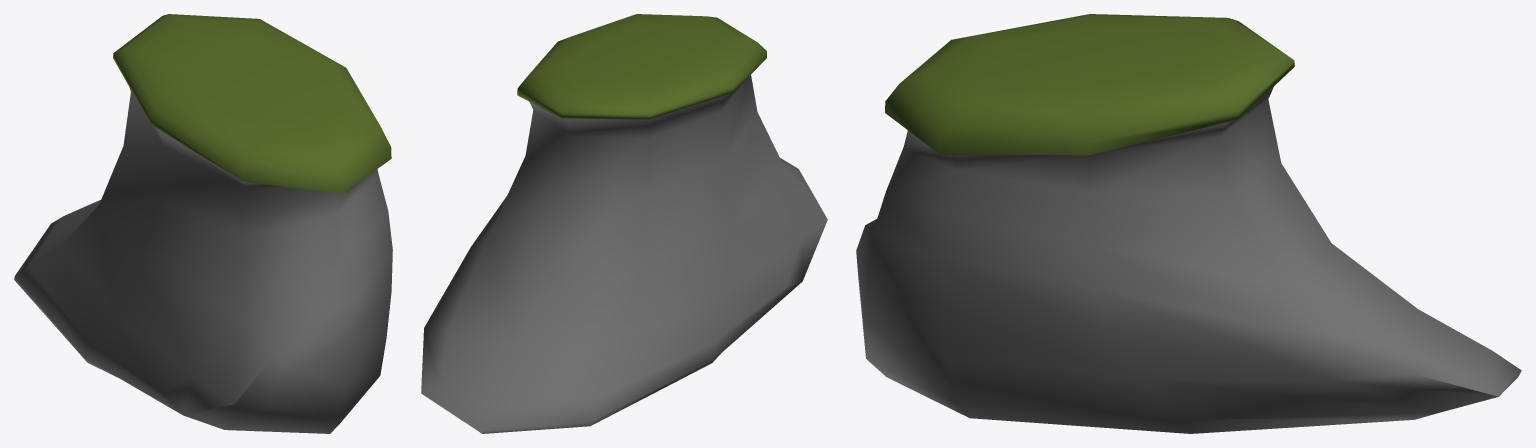
File: Roche_Grand.fbx
3 renders of one model, left to right at view 1: azimuth 30°, elevation 25°; view 2: azimuth 150°, elevation 25°; view 3: azimuth 270°, elevation 25°, orthographic. The views are drawn at different scales.
Parts seen in each view (by area): view 1: Cube.001; view 2: Cube.001; view 3: Cube.001.
Boxes of the visible parts, x1,y1,x2,y2 form: Cube.001: (14,14,392,433); Cube.001: (421,14,827,433); Cube.001: (856,14,1521,433).
Bounding box in the file's own units: 178 × 212 × 379.
